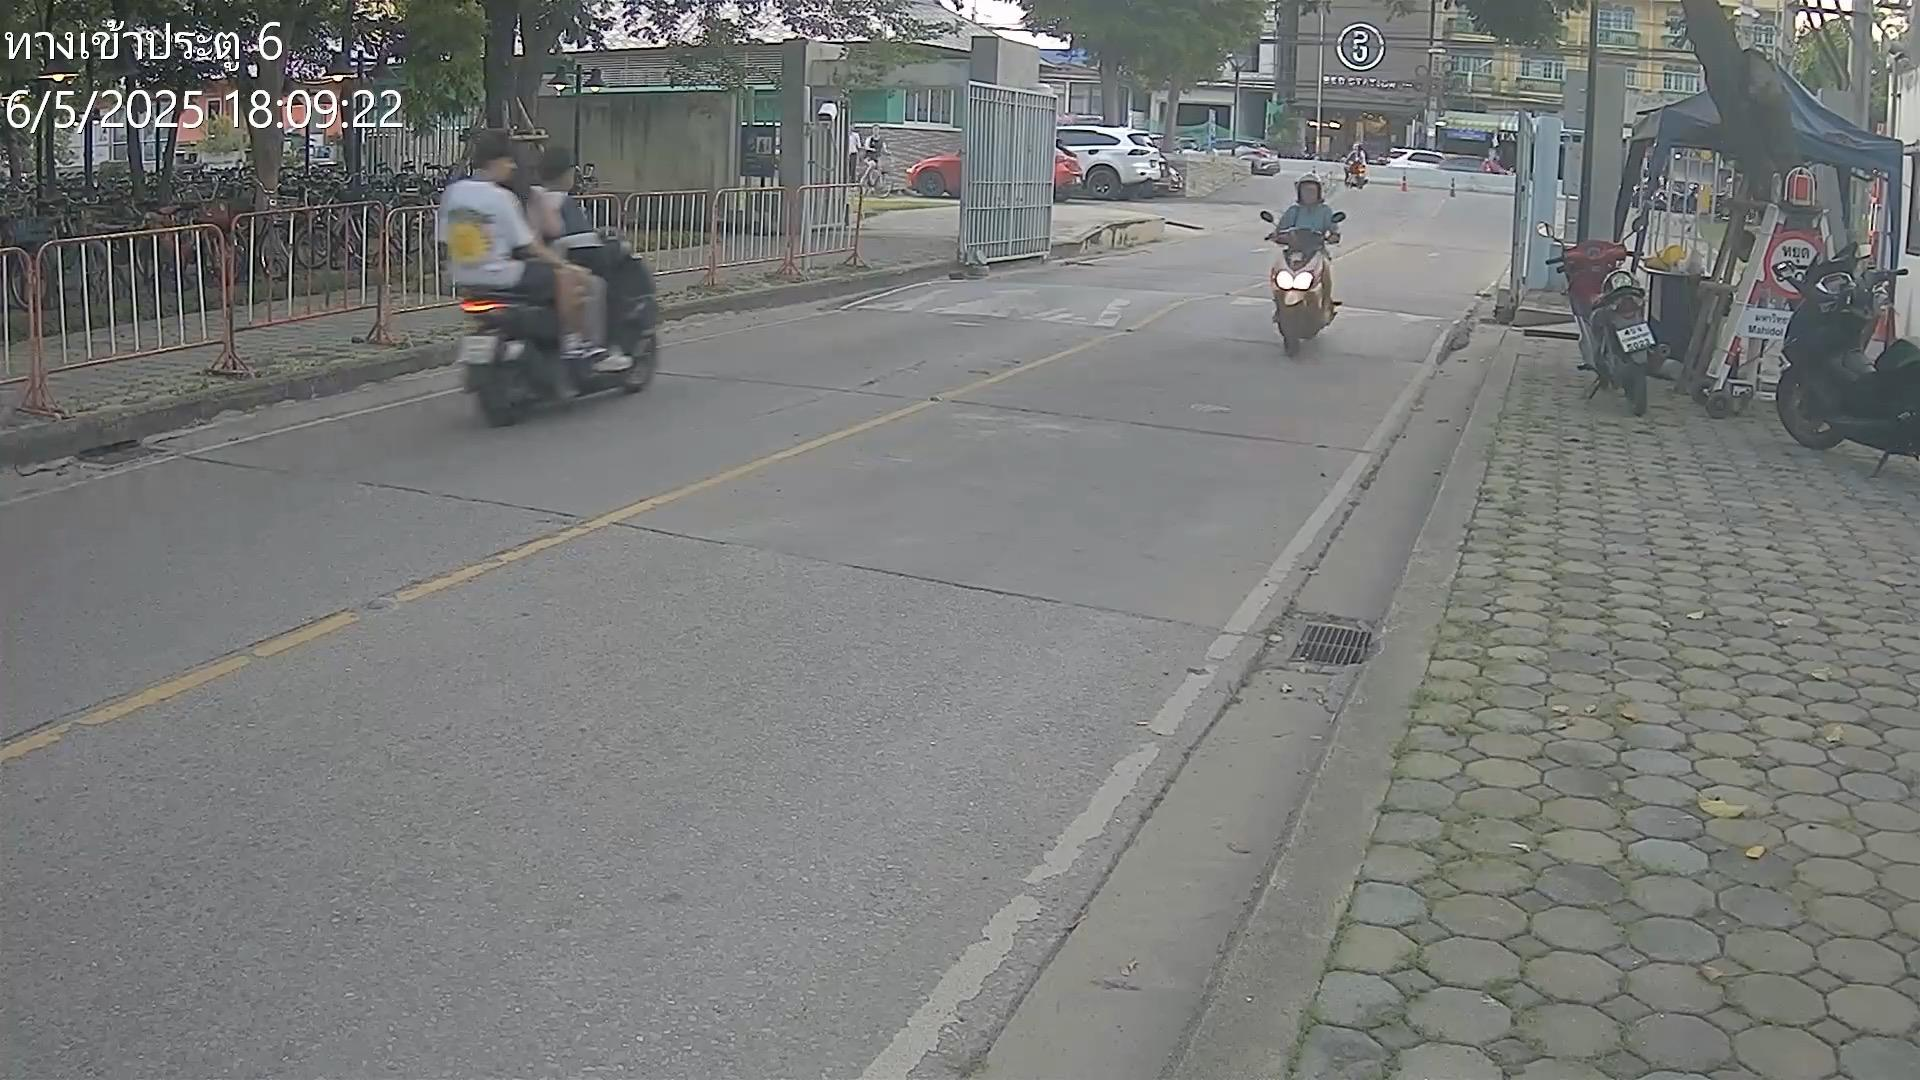With-Helmet: (1294, 171, 1324, 204)
